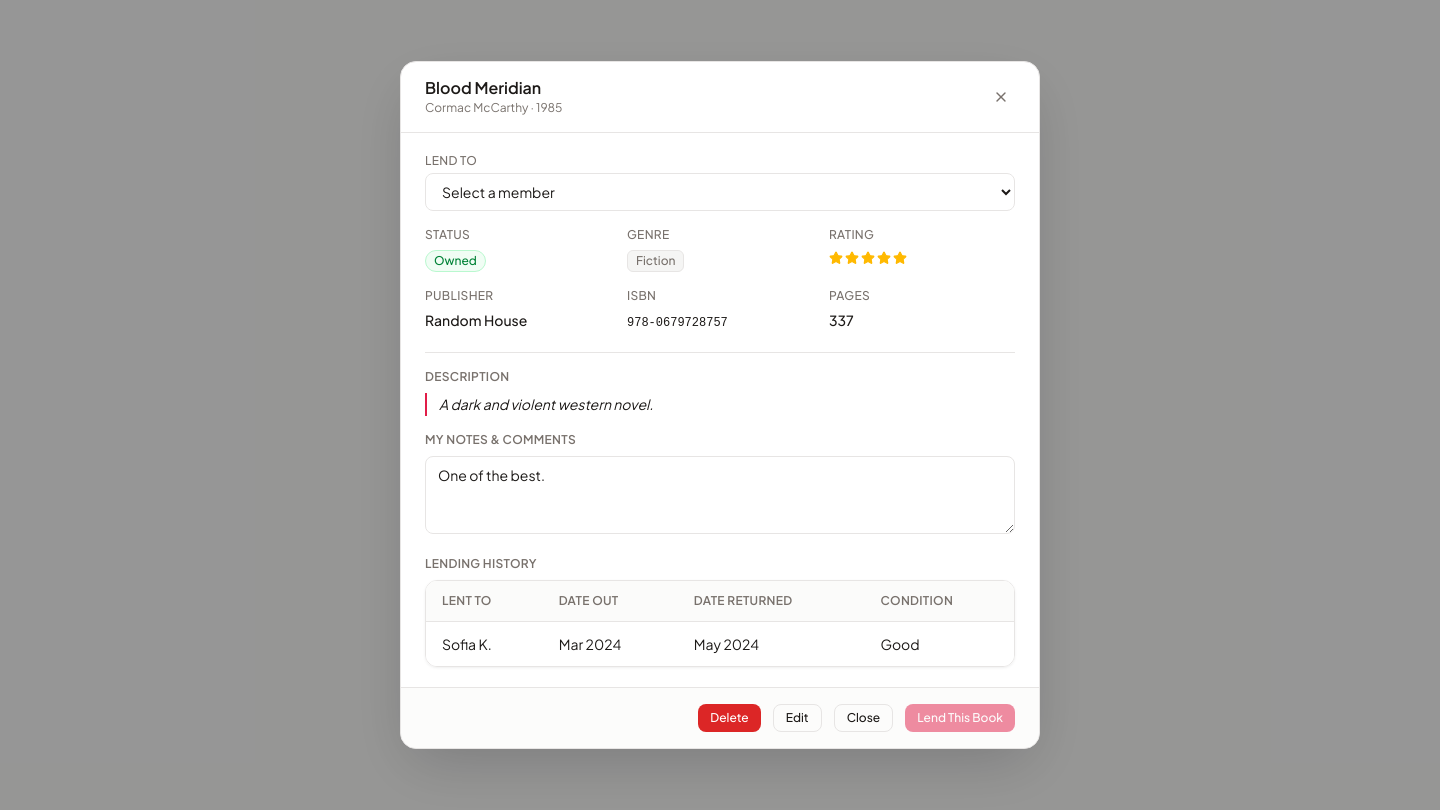
it: BookDetailModal component › shows an inline error and keeps the modal open when lending fails
This screenshot has width=1440, height=810.
Select "Sofia K." in the dropdown labelled "Lend to": (720, 192) [425,173,1015,211]
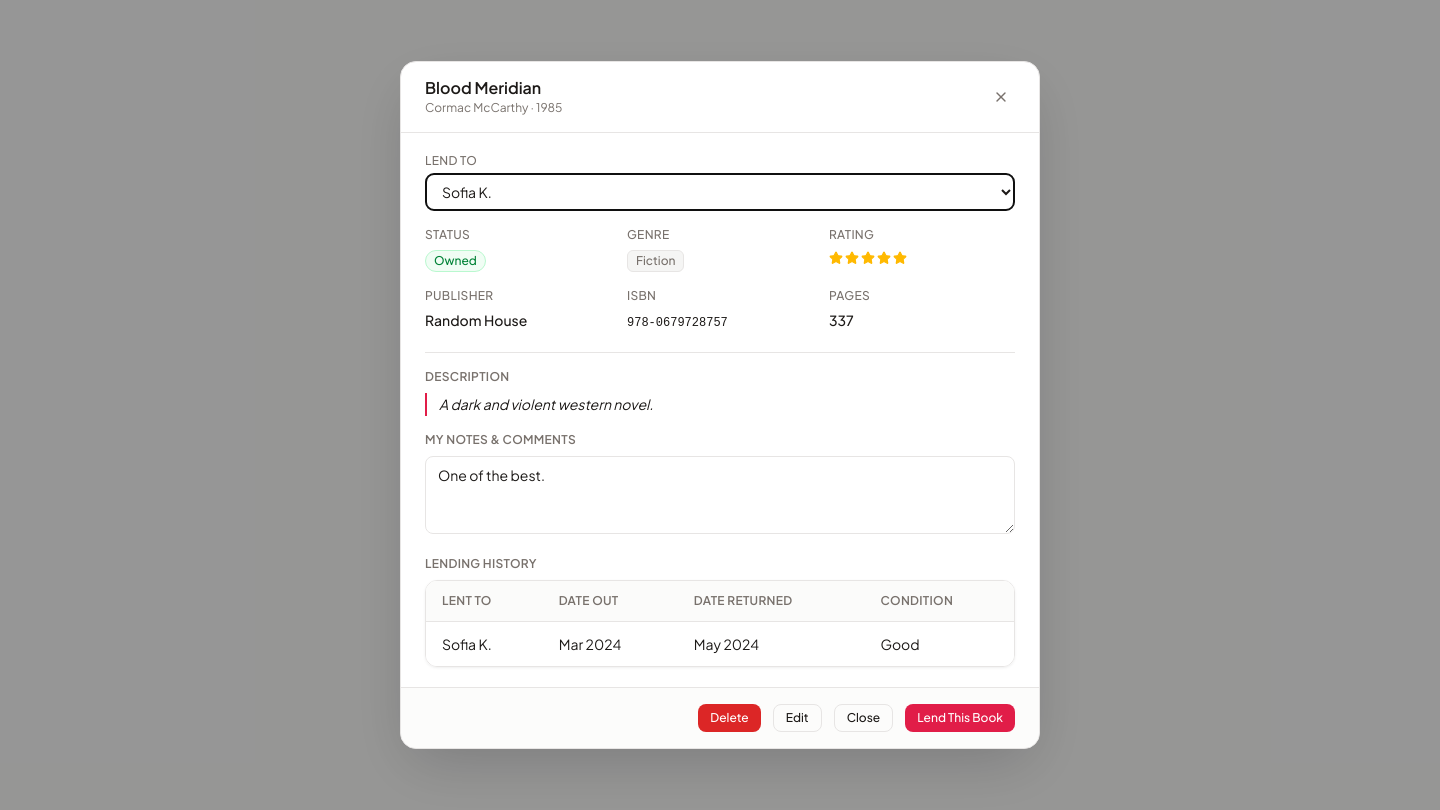
Click the button "Lend This Book": (960, 718) [905,704,1015,732]
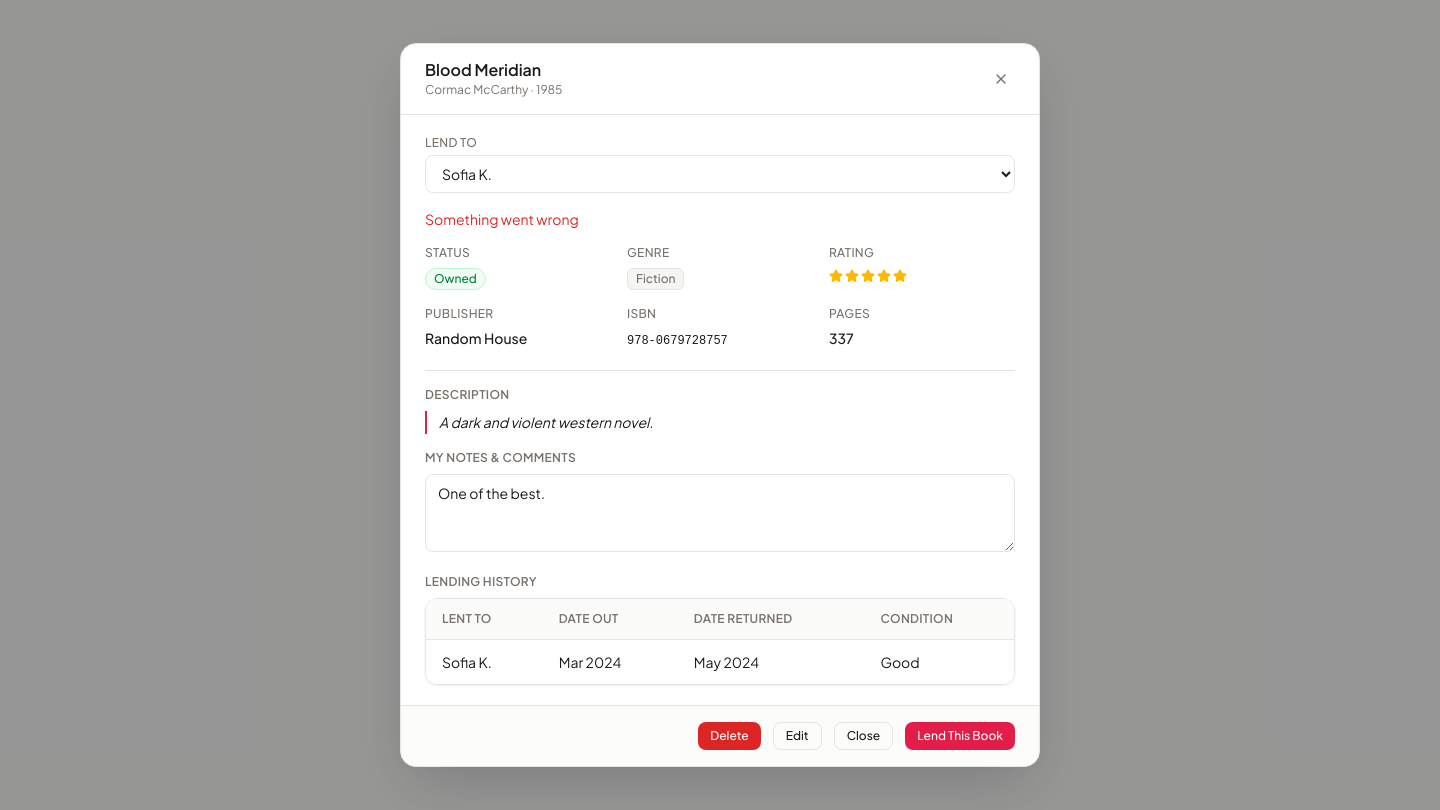
Expected: the message reads "Something went wrong", [425,210,579,228]
